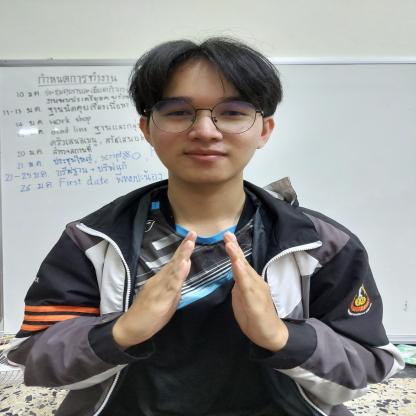Thank you: (123, 224, 293, 353)
